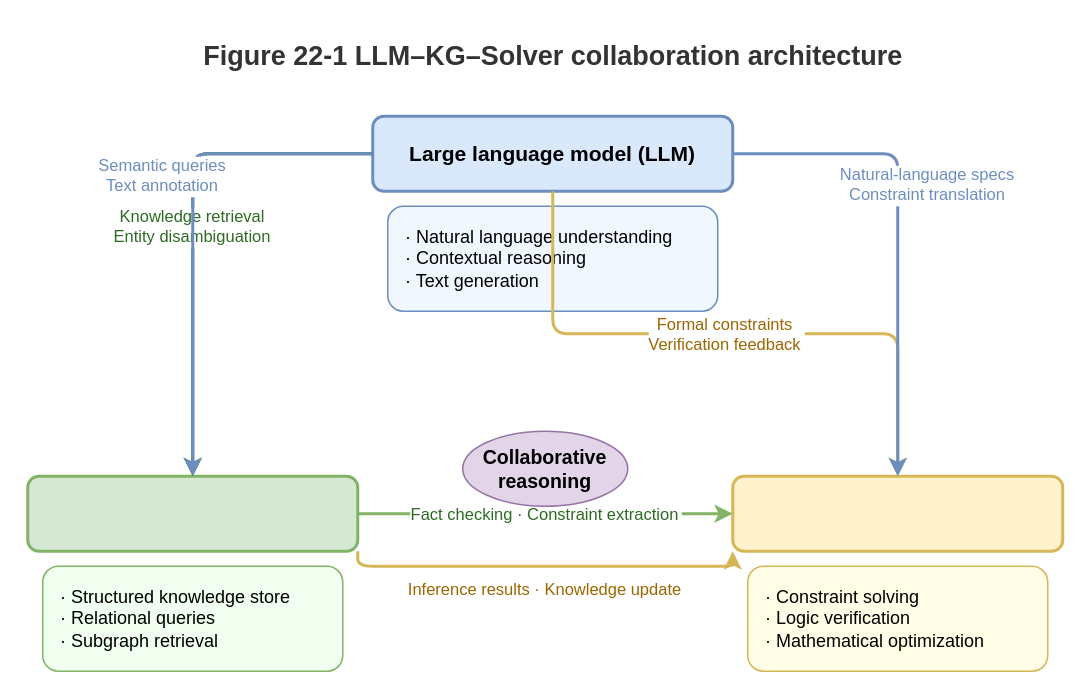
Image size: 1089x698. Some labels were removed from this diagram. Here are the shapes that lost their labels. From the top down, the box of each, then its label:
(26, 474, 358, 552): Knowledge graph (KG)
(730, 474, 1064, 552): Formal solver
